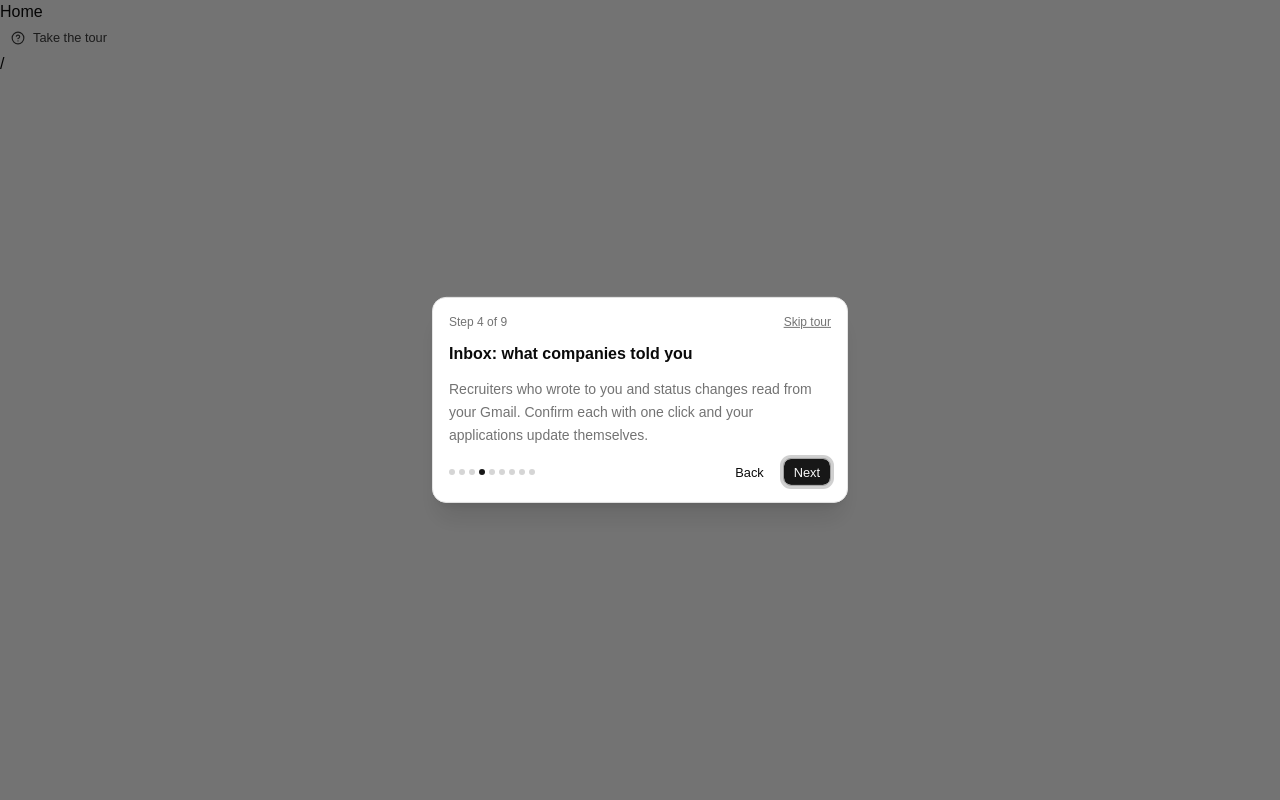
Test: first-visit tour › opens by itself on the first visit and walks through every step
Earlier steps of the test are not shown.
Click the button "Next" at (807, 472), box [783,458,831,486]
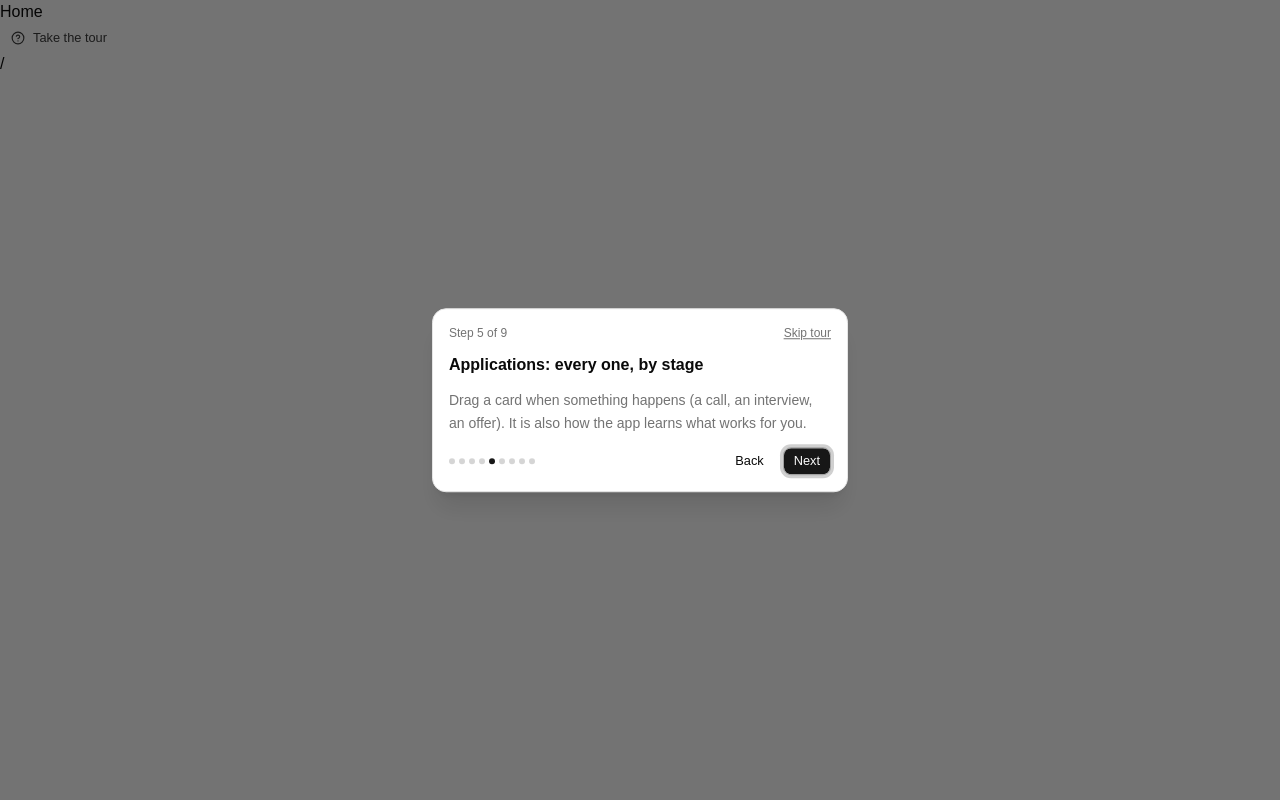
Click the button "Next" at (807, 461), box [783,447,831,475]
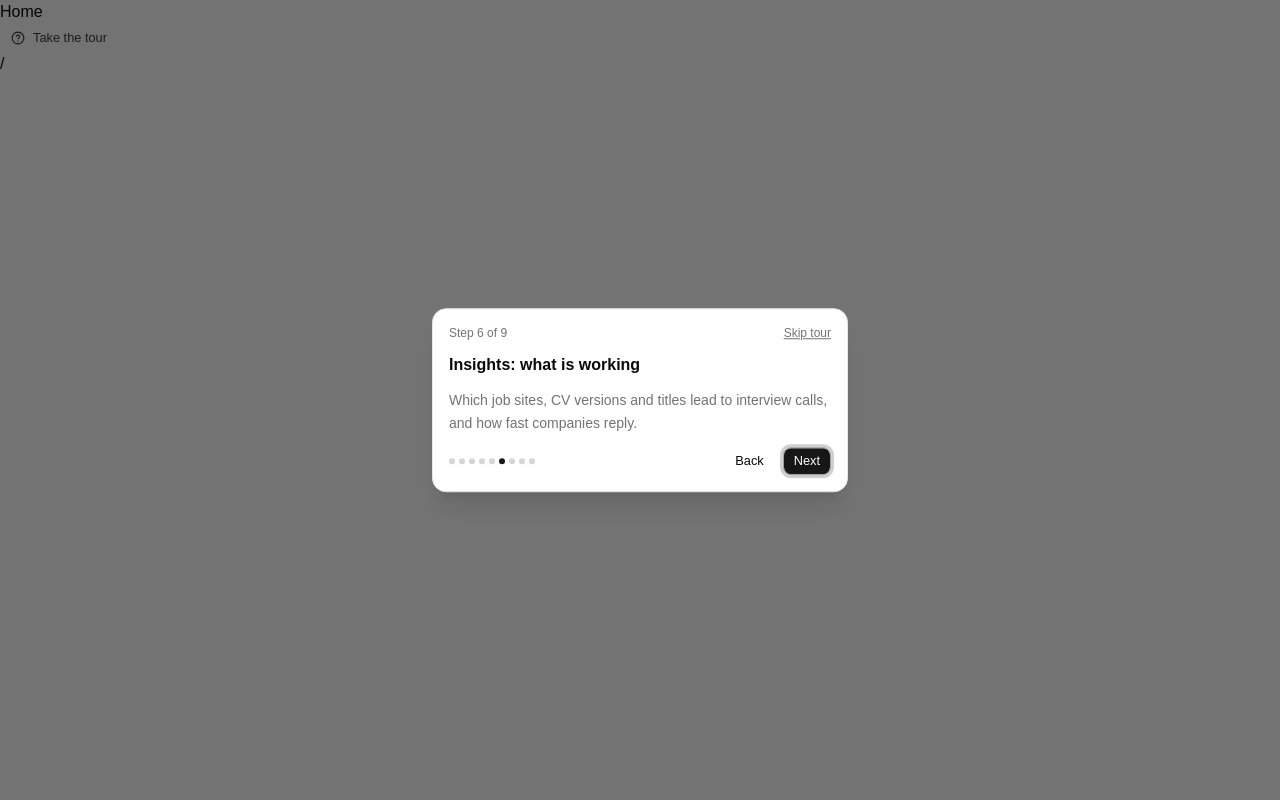
Click the button "Next" at (807, 461), box [783,447,831,475]
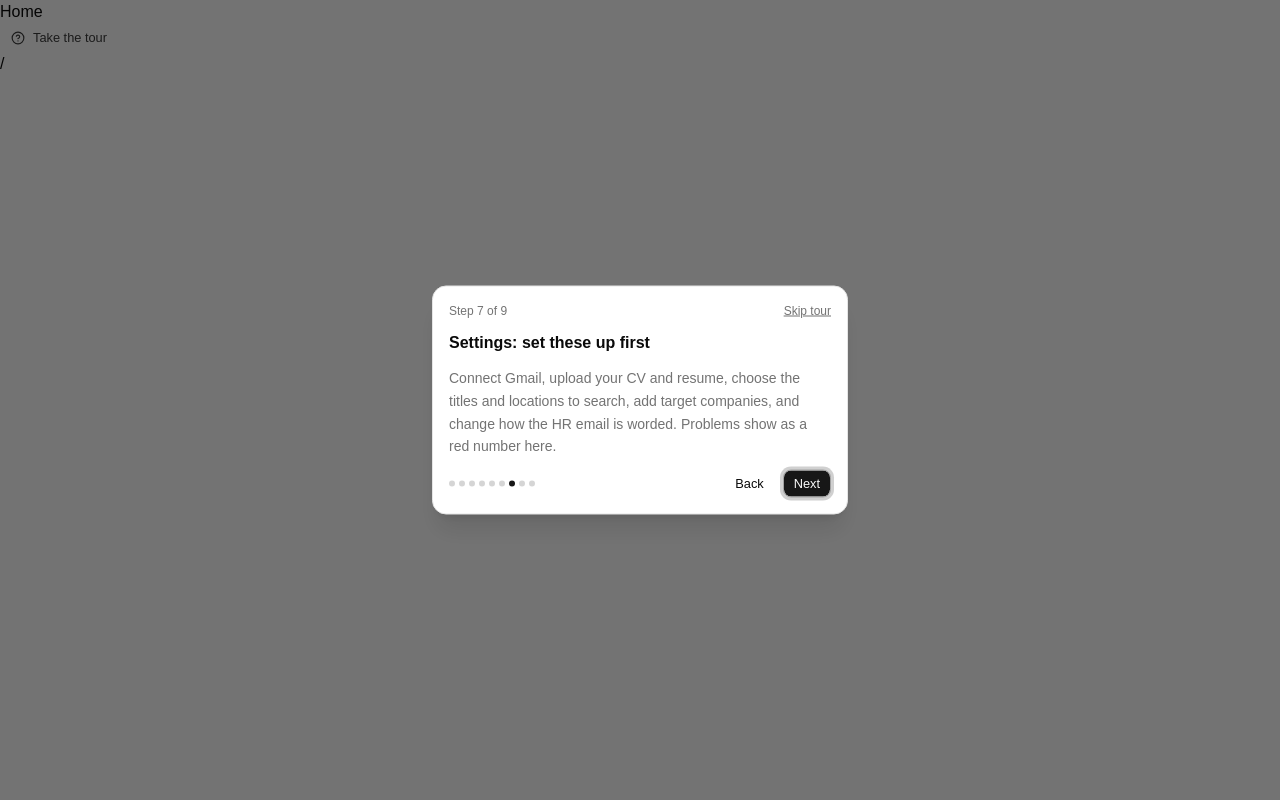
Click the button "Next" at (807, 484), box [783,470,831,498]
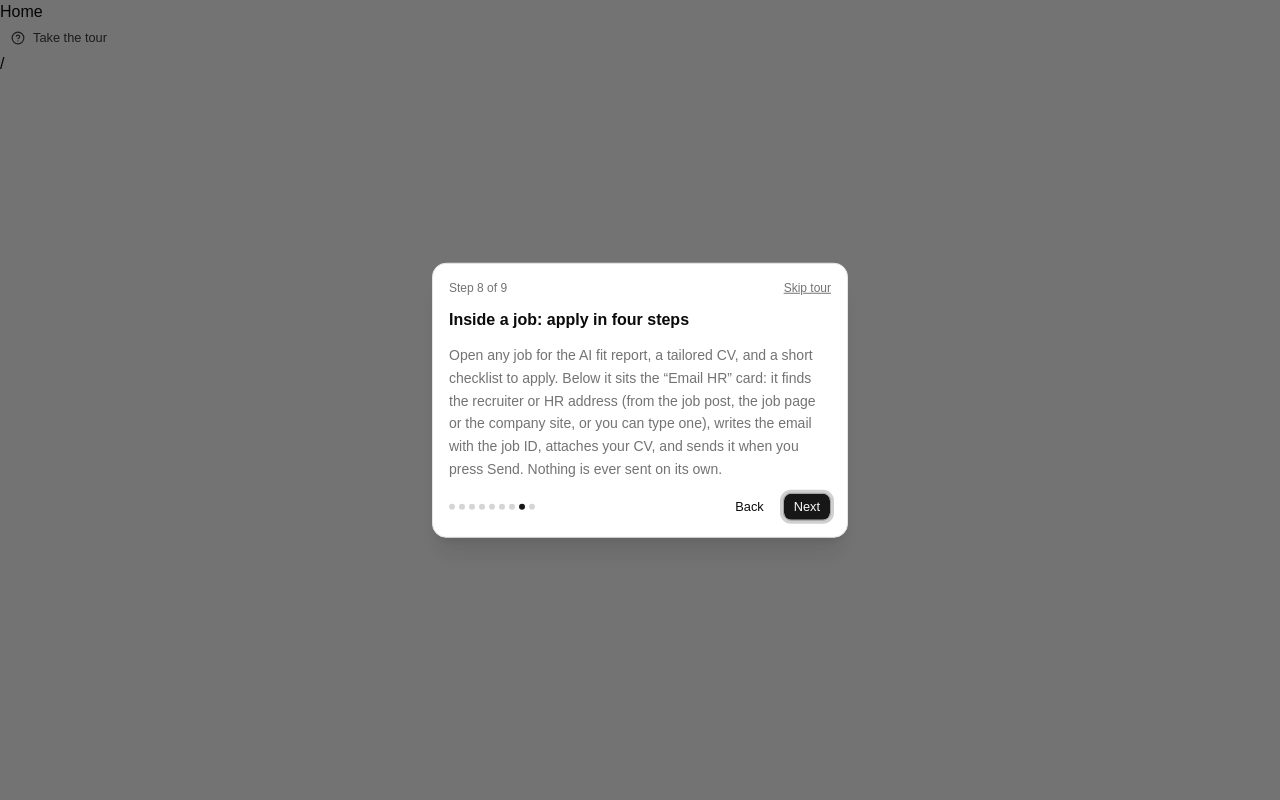
Click the button "Next" at (807, 506), box [783,492,831,520]
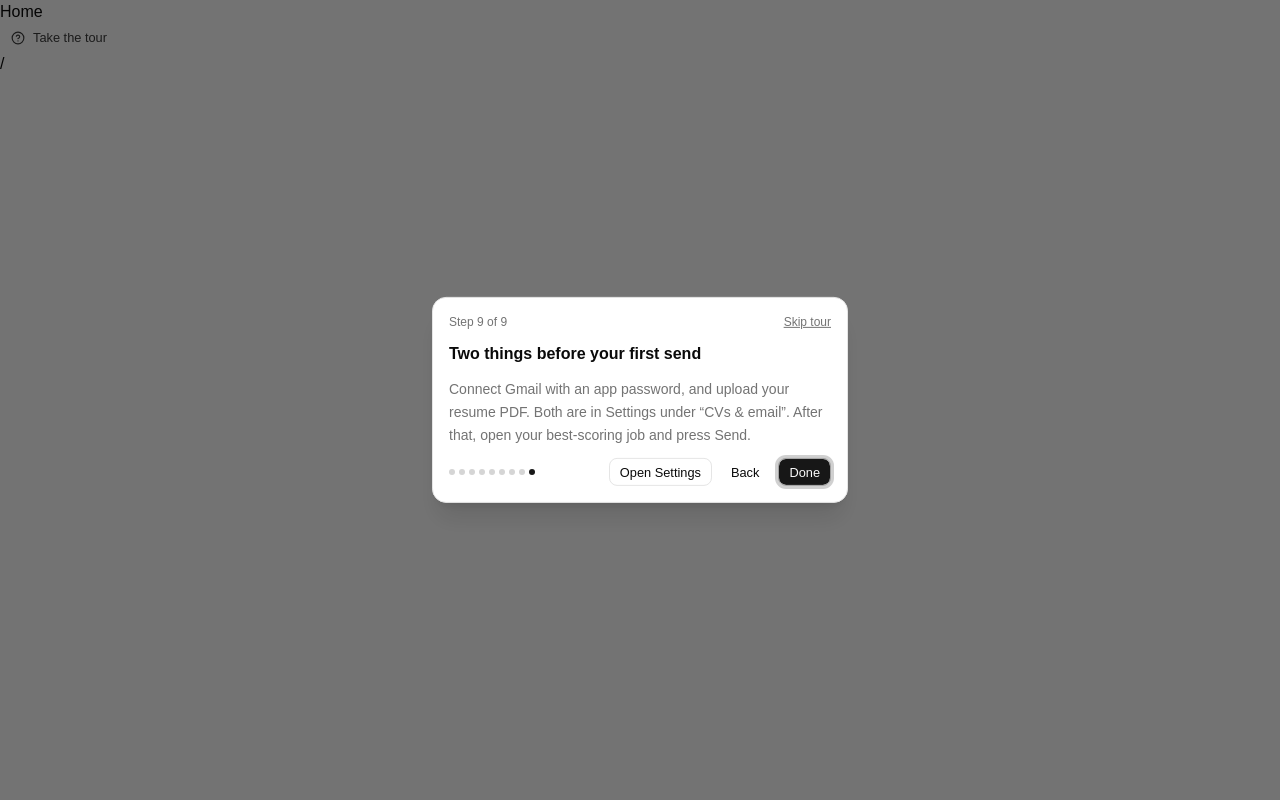
Click the button "Done" at (805, 472), box [778,458,831,486]
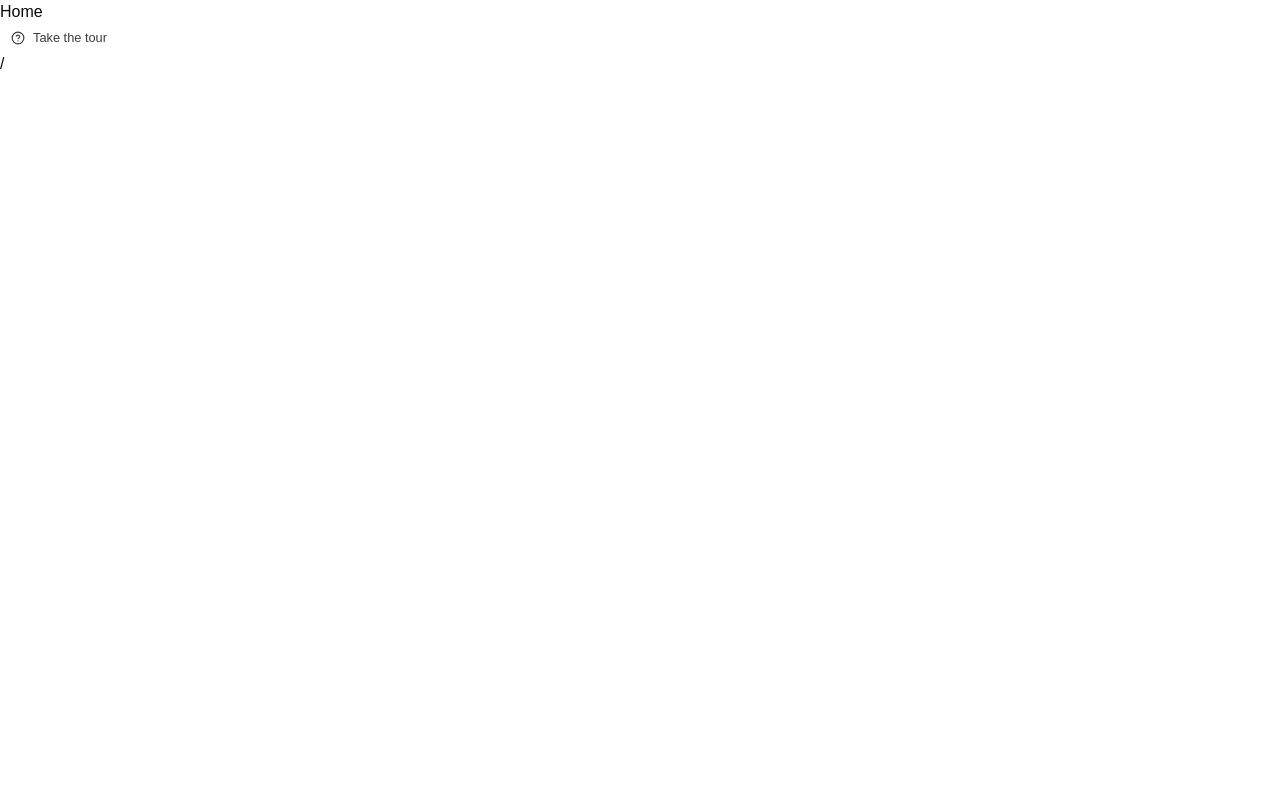
Expected: the dialog is gone
